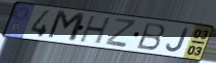4: (28, 9, 53, 39)
B: (135, 21, 167, 52)
H: (77, 14, 114, 46)
J: (165, 27, 191, 54)
M: (45, 9, 88, 44)
Z: (103, 17, 138, 50)
